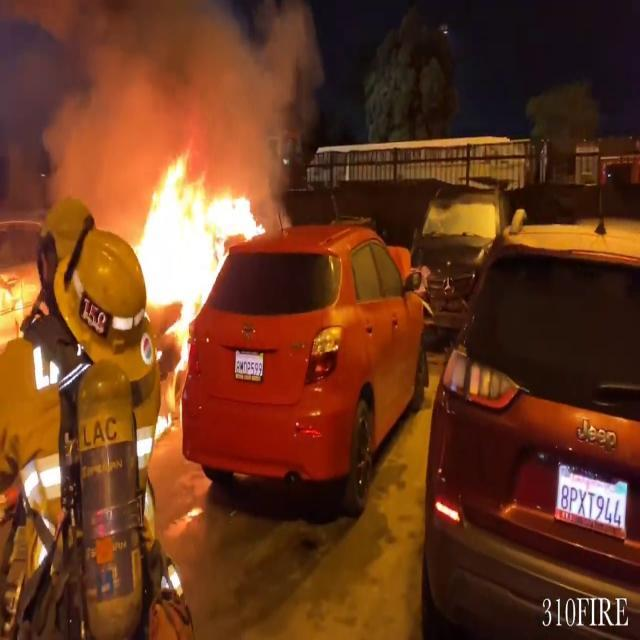Fire: (122, 150, 274, 326)
Smoke: (23, 1, 327, 188)
